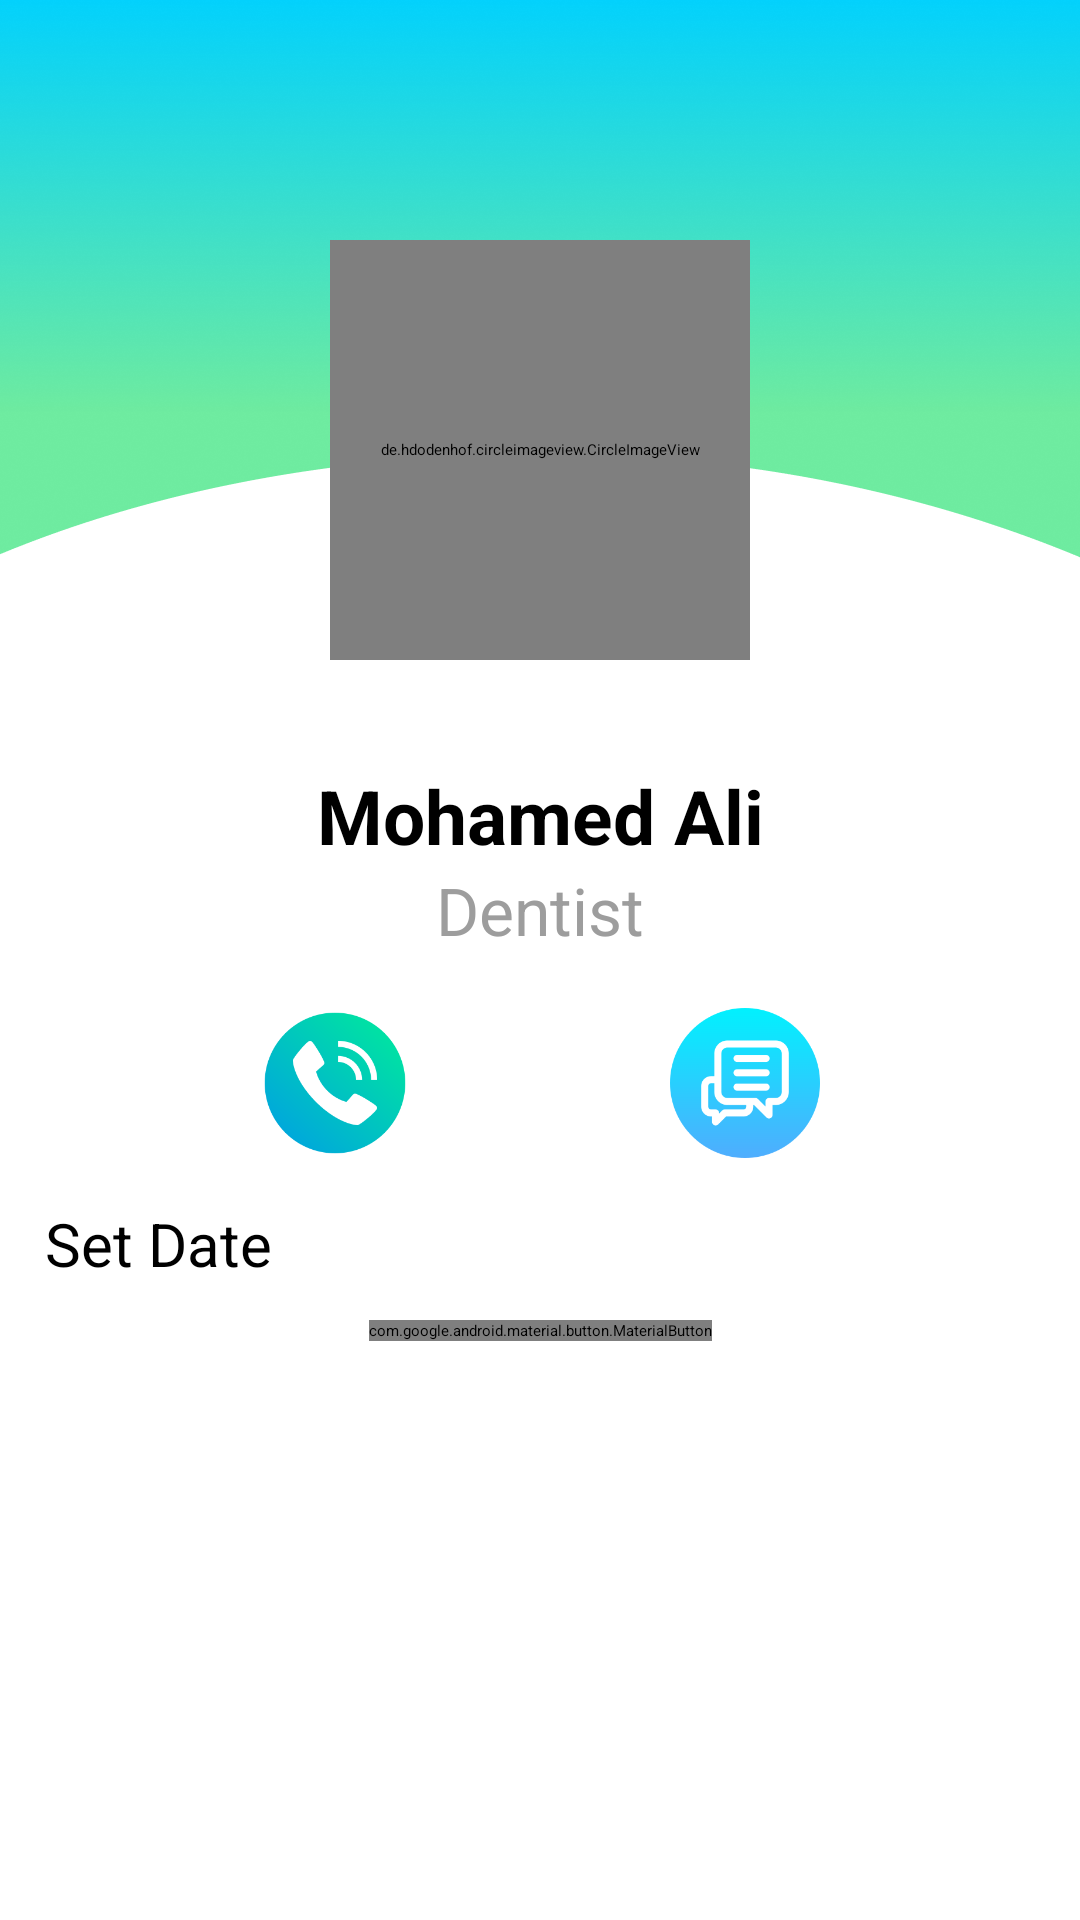

Named icons in this screenshot (1080px x 1920px) and their bounding boxes, bbox=[x1, y1, x2, y2]:
call: bbox=[264, 1012, 406, 1154]
chat: bbox=[670, 1008, 820, 1158]
